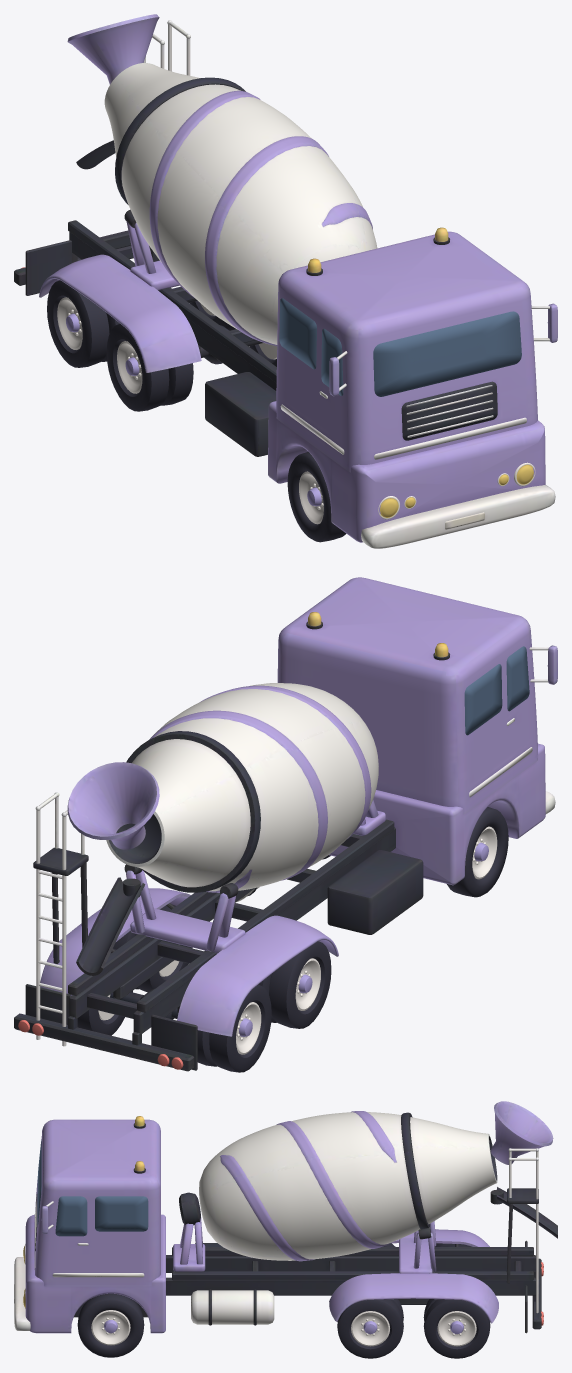
File: cement-mixer.glb
The picture shows the model from 3 angles, top to bottom: view 1: azimuth 30°, elevation 25°; view 2: azimuth 150°, elevation 25°; view 3: azimuth 270°, elevation 25°; orthographic projection. The views are drawn at different scales.
Parts seen in each view (by area): view 1: cement-mixer_body, cement-mixer_drum, cement-mixer_windows, cement-mixer_wheel_r1r, cement-mixer_wheel_r2r, cement-mixer_wheel_fr, cement-mixer_headlights; view 2: cement-mixer_body, cement-mixer_drum, cement-mixer_wheel_r1r, cement-mixer_wheel_r2r, cement-mixer_wheel_fr, cement-mixer_windows, cement-mixer_wheel_r2l, cement-mixer_wheel_r1l; view 3: cement-mixer_body, cement-mixer_drum, cement-mixer_wheel_fl, cement-mixer_windows, cement-mixer_wheel_r1l, cement-mixer_wheel_r2l.
Boxes of the visible parts, x1,y1,x2,y2 form: cement-mixer_body: (14, 14, 557, 548); cement-mixer_drum: (104, 63, 377, 345); cement-mixer_windows: (279, 298, 521, 396); cement-mixer_wheel_r1r: (106, 323, 193, 411); cement-mixer_wheel_r2r: (47, 280, 119, 367); cement-mixer_wheel_fr: (287, 451, 346, 542); cement-mixer_headlights: (378, 462, 535, 519); cement-mixer_body: (14, 577, 557, 1071); cement-mixer_drum: (106, 683, 378, 892); cement-mixer_wheel_r1r: (258, 941, 331, 1028); cement-mixer_wheel_r2r: (197, 984, 271, 1072); cement-mixer_wheel_fr: (447, 807, 508, 897); cement-mixer_windows: (464, 646, 529, 735); cement-mixer_wheel_r2l: (77, 948, 132, 1035); cement-mixer_wheel_r1l: (113, 904, 192, 992); cement-mixer_body: (14, 1101, 557, 1333); cement-mixer_drum: (199, 1111, 497, 1261); cement-mixer_wheel_fl: (77, 1293, 144, 1357); cement-mixer_windows: (37, 1140, 148, 1236); cement-mixer_wheel_r1l: (337, 1299, 403, 1358); cement-mixer_wheel_r2l: (423, 1299, 490, 1358).
Bounding box in the file's own units: 2.94 × 3.81 × 8.49.
Materials: 3 (3 with a texture image).
